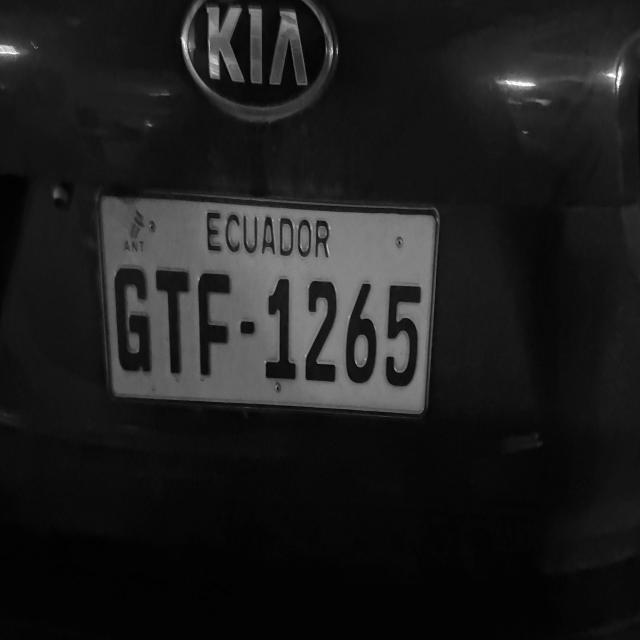Placa: (100, 197, 438, 414)
